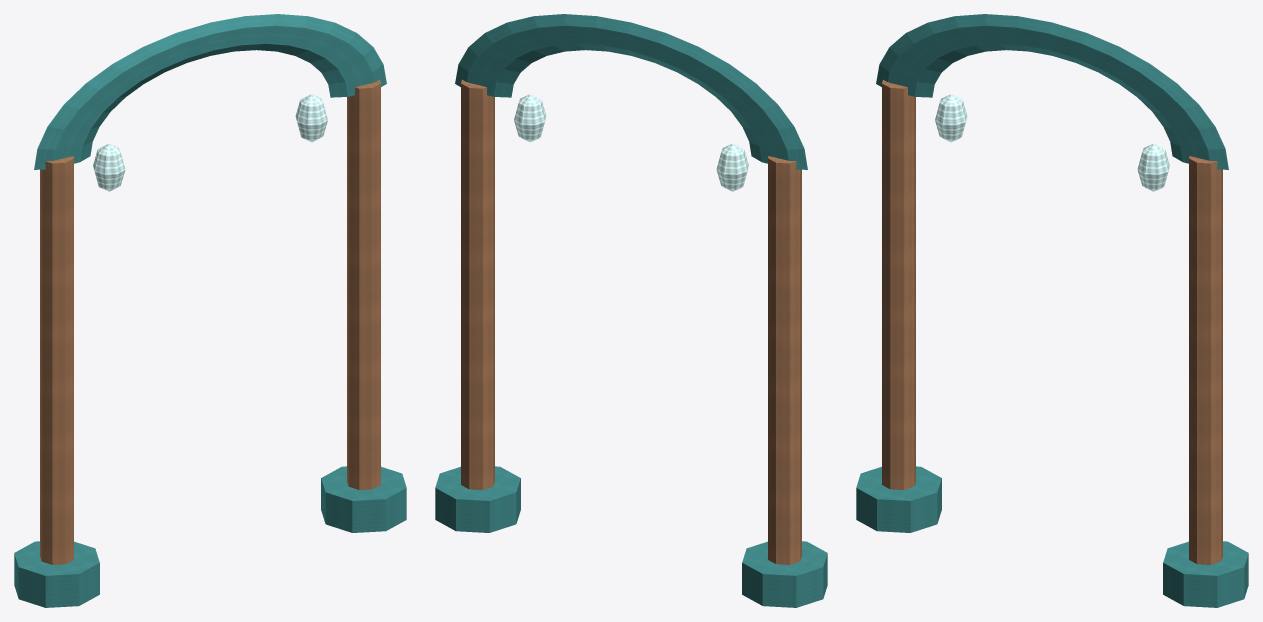
The model's file is atlas100-s091-a09.glb.
3 renders of one model, left to right at view 1: azimuth 30°, elevation 25°; view 2: azimuth 150°, elevation 25°; view 3: azimuth 330°, elevation 25°, orthographic.
Visible parts, largest first — view 1: atlas100-s091-a09:part-004, atlas100-s091-a09:part-000, atlas100-s091-a09:part-002, atlas100-s091-a09:part-001, atlas100-s091-a09:part-003, atlas100-s091-a09:part-005, atlas100-s091-a09:part-006; view 2: atlas100-s091-a09:part-004, atlas100-s091-a09:part-000, atlas100-s091-a09:part-002, atlas100-s091-a09:part-001, atlas100-s091-a09:part-003, atlas100-s091-a09:part-005, atlas100-s091-a09:part-006; view 3: atlas100-s091-a09:part-004, atlas100-s091-a09:part-002, atlas100-s091-a09:part-000, atlas100-s091-a09:part-003, atlas100-s091-a09:part-001, atlas100-s091-a09:part-005, atlas100-s091-a09:part-006.
Part boxes in pixels (<box>): atlas100-s091-a09:part-004: <box>34,14,386,169</box>; atlas100-s091-a09:part-000: <box>40,156,73,564</box>; atlas100-s091-a09:part-002: <box>347,79,380,489</box>; atlas100-s091-a09:part-001: <box>14,541,99,607</box>; atlas100-s091-a09:part-003: <box>321,466,406,532</box>; atlas100-s091-a09:part-005: <box>93,143,125,191</box>; atlas100-s091-a09:part-006: <box>295,94,327,142</box>; atlas100-s091-a09:part-004: <box>455,14,807,169</box>; atlas100-s091-a09:part-000: <box>768,156,801,564</box>; atlas100-s091-a09:part-002: <box>461,79,494,489</box>; atlas100-s091-a09:part-001: <box>742,541,827,607</box>; atlas100-s091-a09:part-003: <box>435,466,520,532</box>; atlas100-s091-a09:part-005: <box>716,143,748,191</box>; atlas100-s091-a09:part-006: <box>514,94,546,142</box>; atlas100-s091-a09:part-004: <box>876,14,1228,169</box>; atlas100-s091-a09:part-002: <box>1189,156,1222,564</box>; atlas100-s091-a09:part-000: <box>882,79,915,489</box>; atlas100-s091-a09:part-003: <box>1163,541,1248,607</box>; atlas100-s091-a09:part-001: <box>856,466,941,532</box>; atlas100-s091-a09:part-005: <box>935,94,967,142</box>; atlas100-s091-a09:part-006: <box>1137,143,1169,191</box>.
Size of the model in its own units: 2.5 by 3.3 by 0.5.
Materials: 3 (3 with a texture image).
